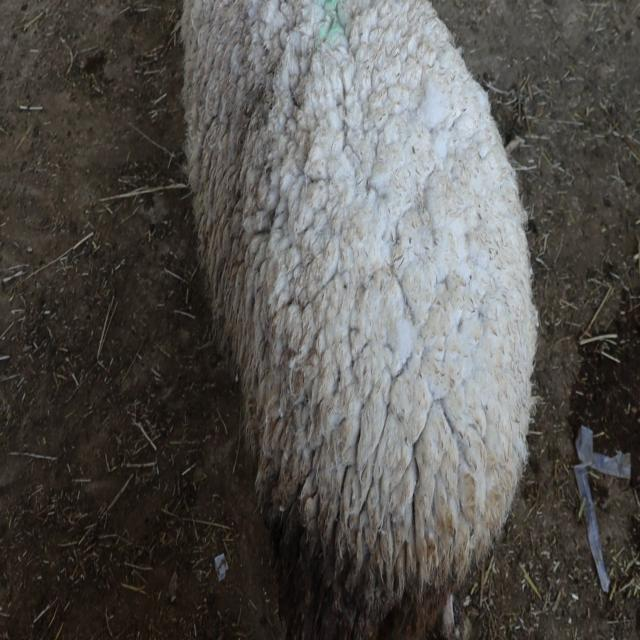Score_3: (182, 0, 538, 639)
